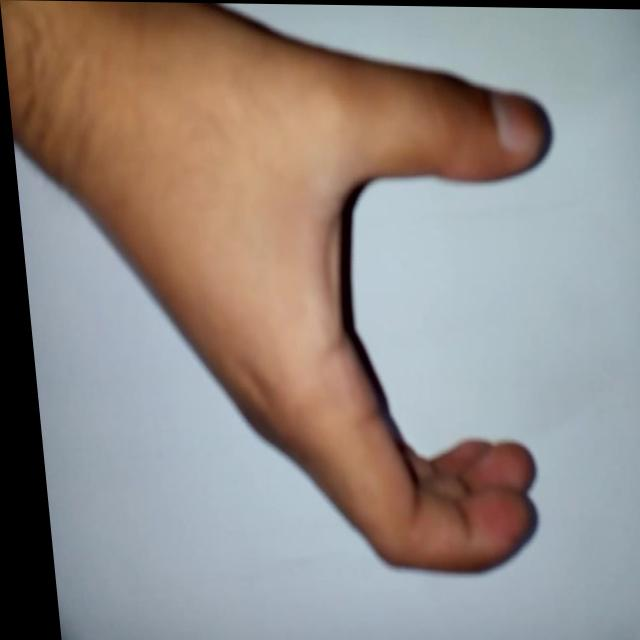C: (131, 34, 608, 578)
